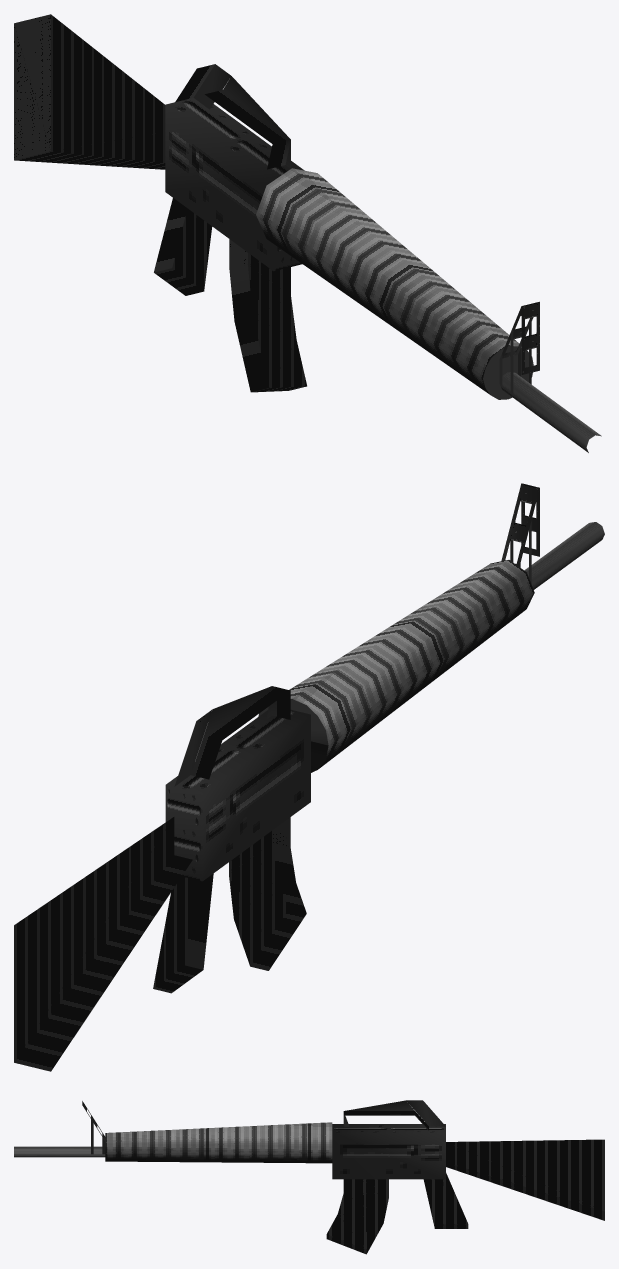
Rendered from gun.glb.
The picture shows the model from 3 angles, top to bottom: view 1: azimuth 30°, elevation 25°; view 2: azimuth 150°, elevation 25°; view 3: azimuth 270°, elevation 25°; orthographic projection. The views are drawn at different scales.
Parts seen in each view (by area): view 1: m6, m5, m8, m7, m2, m3CullBoth, m4; view 2: m6, m5, m8, m7, m2, m3CullBoth, m4; view 3: m6, m5, m8, m7, m2.
Boxes of the visible parts, x1=… form: m6: x1=14, y1=14, x2=306, y2=392; m5: x1=256, y1=168, x2=521, y2=394; m8: x1=165, y1=105, x2=273, y2=270; m7: x1=166, y1=98, x2=304, y2=270; m2: x1=500, y1=372, x2=601, y2=452; m3CullBoth: x1=502, y1=301, x2=539, y2=374; m4: x1=483, y1=346, x2=533, y2=399; m6: x1=14, y1=686, x2=306, y2=1071; m5: x1=289, y1=560, x2=534, y2=768; m8: x1=202, y1=715, x2=310, y2=880; m7: x1=165, y1=709, x2=310, y2=881; m2: x1=524, y1=522, x2=604, y2=589; m3CullBoth: x1=501, y1=483, x2=539, y2=566; m4: x1=258, y1=699, x2=328, y2=772; m6: x1=326, y1=1100, x2=604, y2=1254; m5: x1=105, y1=1122, x2=332, y2=1163; m8: x1=332, y1=1133, x2=445, y2=1179; m7: x1=332, y1=1124, x2=445, y2=1133; m2: x1=14, y1=1146, x2=105, y2=1157.
Bounding box in the file's own units: 82 × 309 × 1108.
Materials: 8 (8 with a texture image).
